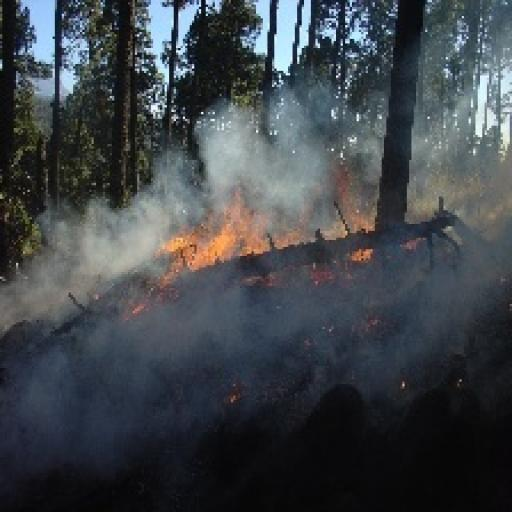fire and smoke: (0, 110, 500, 493)
